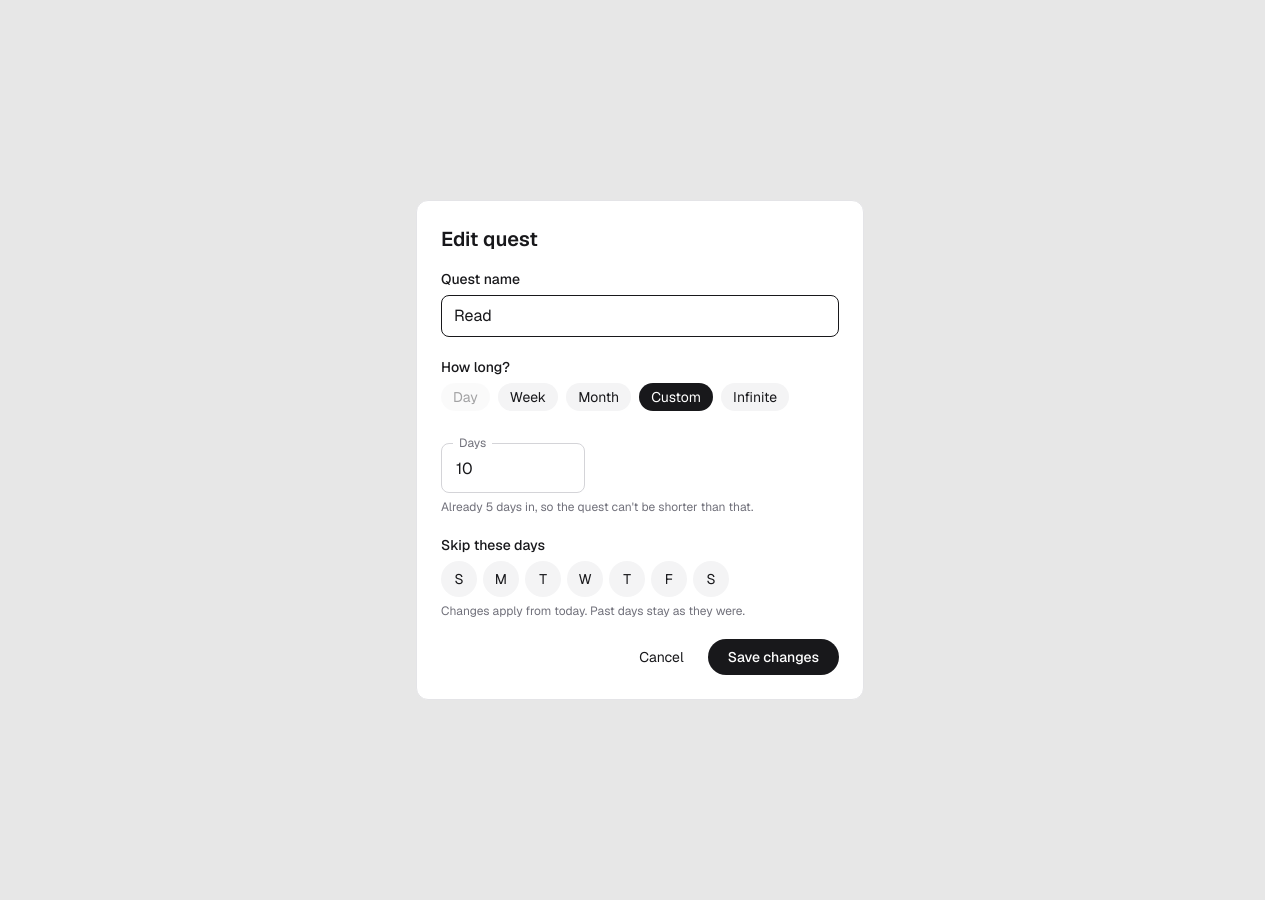
Scenario: EditQuestModal › shows the reason and stays open when the change isn't allowed
The width and height of the screenshot is (1280, 900).
Click the button "Custom" at (676, 397), box top-left (639, 383), bottom-right (713, 411)
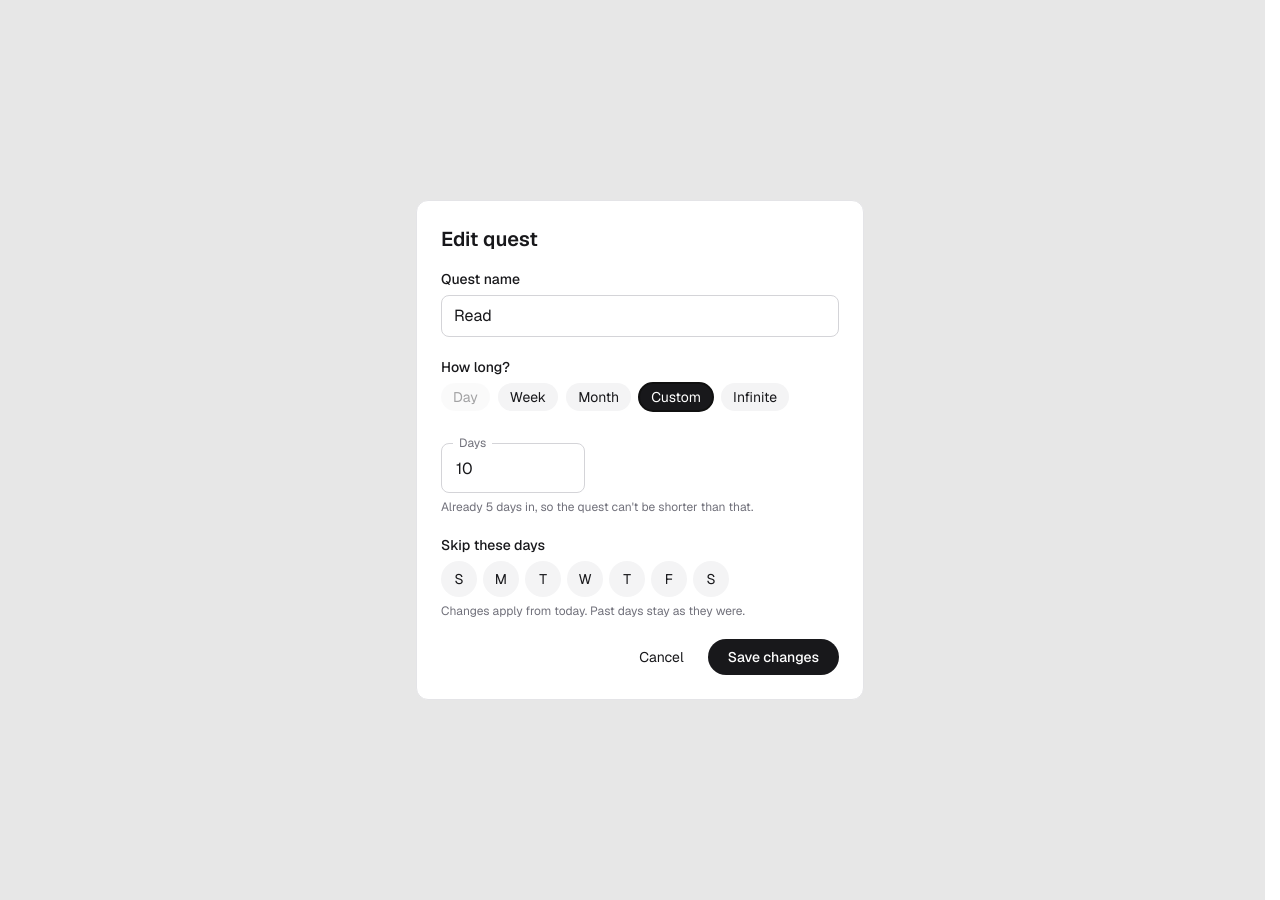
Replace the text in the field named "Number of days" with "3" at (513, 468), box top-left (441, 443), bottom-right (585, 493)
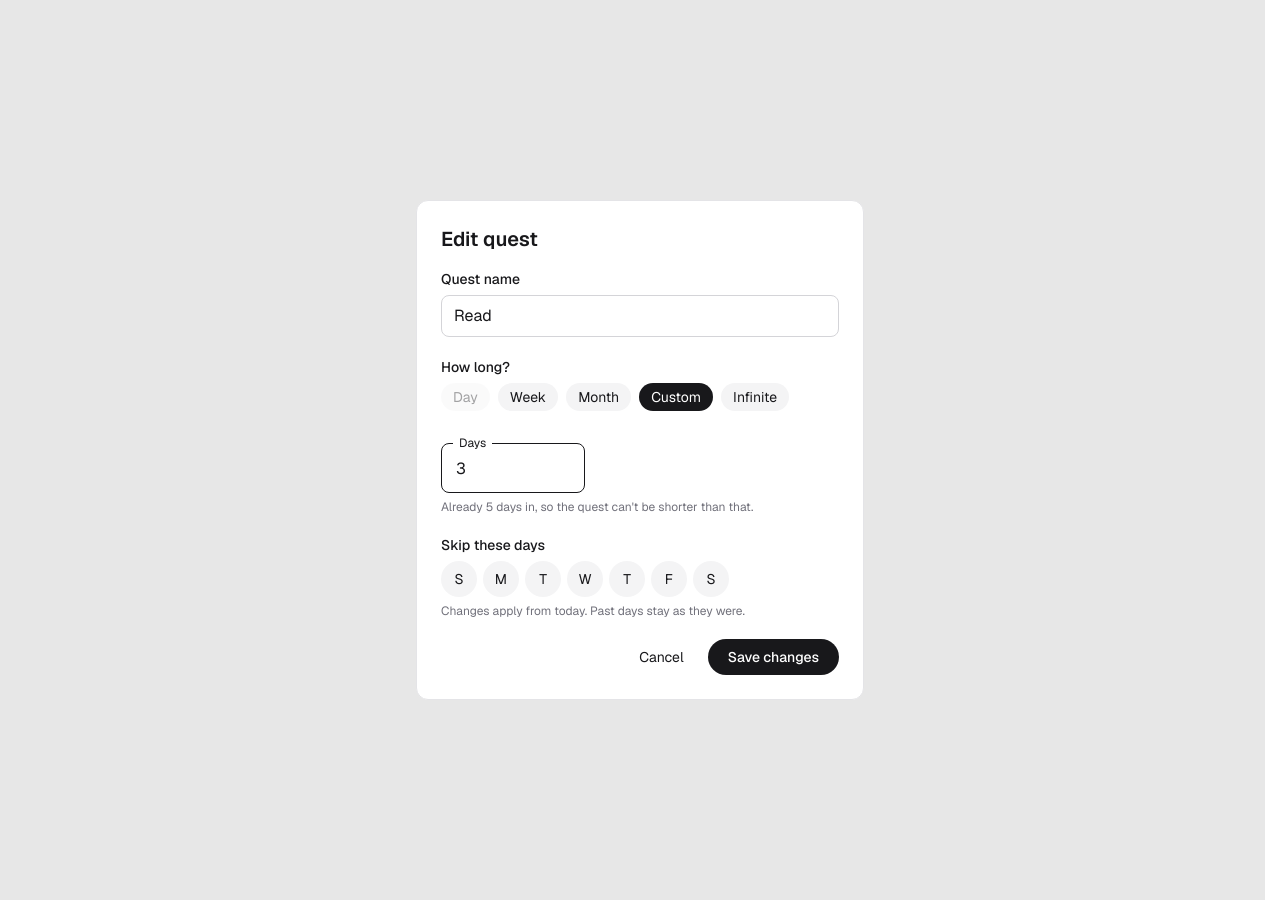
Click the button "Save changes" at (773, 657), box top-left (708, 639), bottom-right (839, 675)
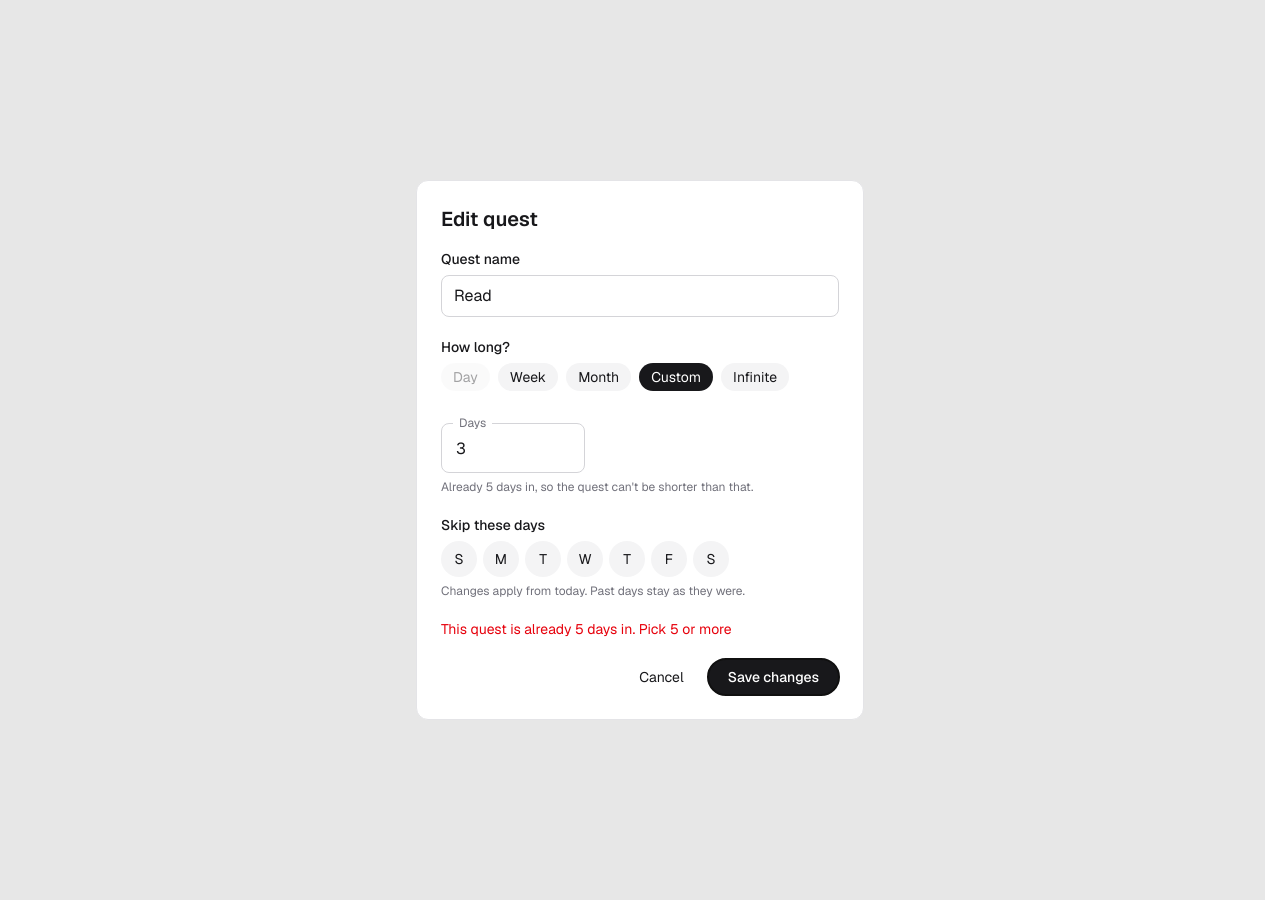
Now the message shows "already 5 days in", box top-left (441, 620), bottom-right (732, 638)
